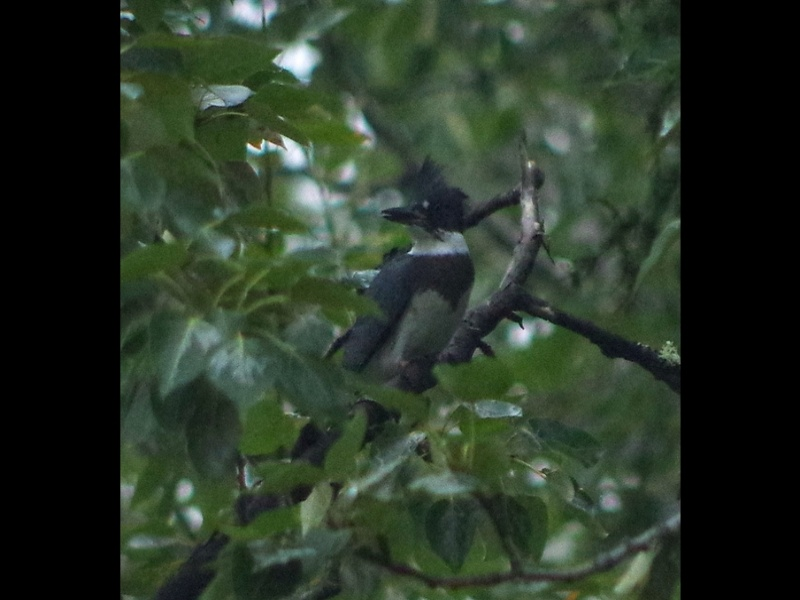kingfisher: (292, 151, 472, 472)
